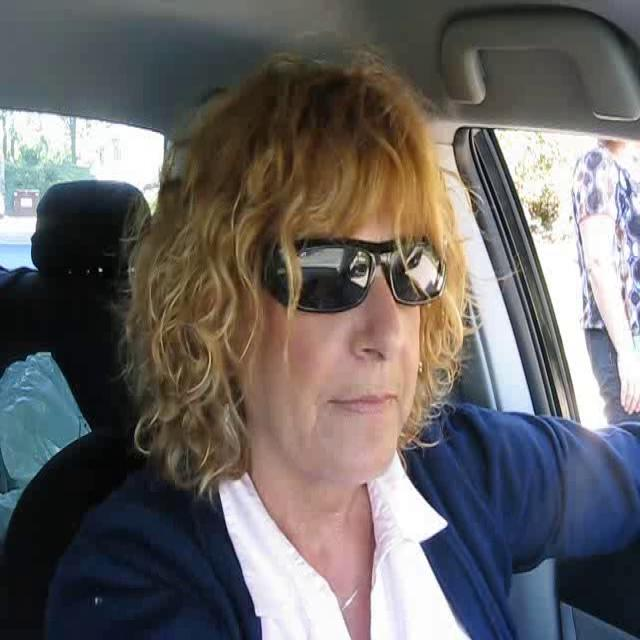close: (324, 379, 407, 423)
